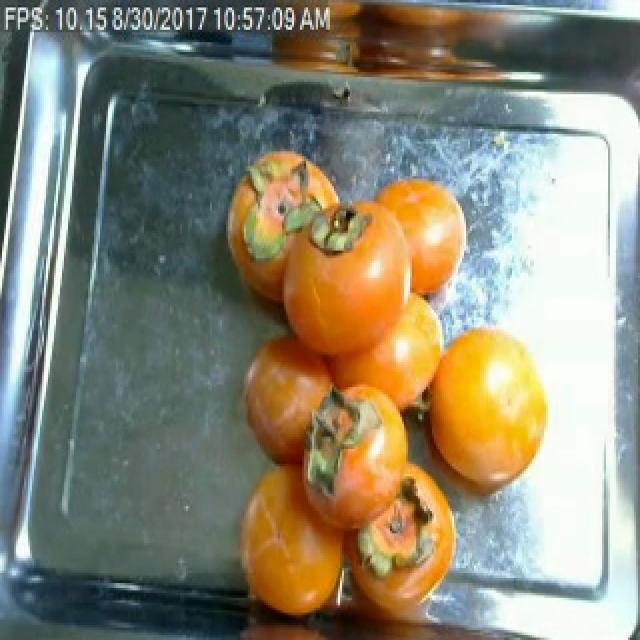Fruit: (406, 305, 566, 521), (224, 454, 360, 635), (336, 161, 482, 320), (230, 317, 348, 483), (218, 142, 344, 270)
